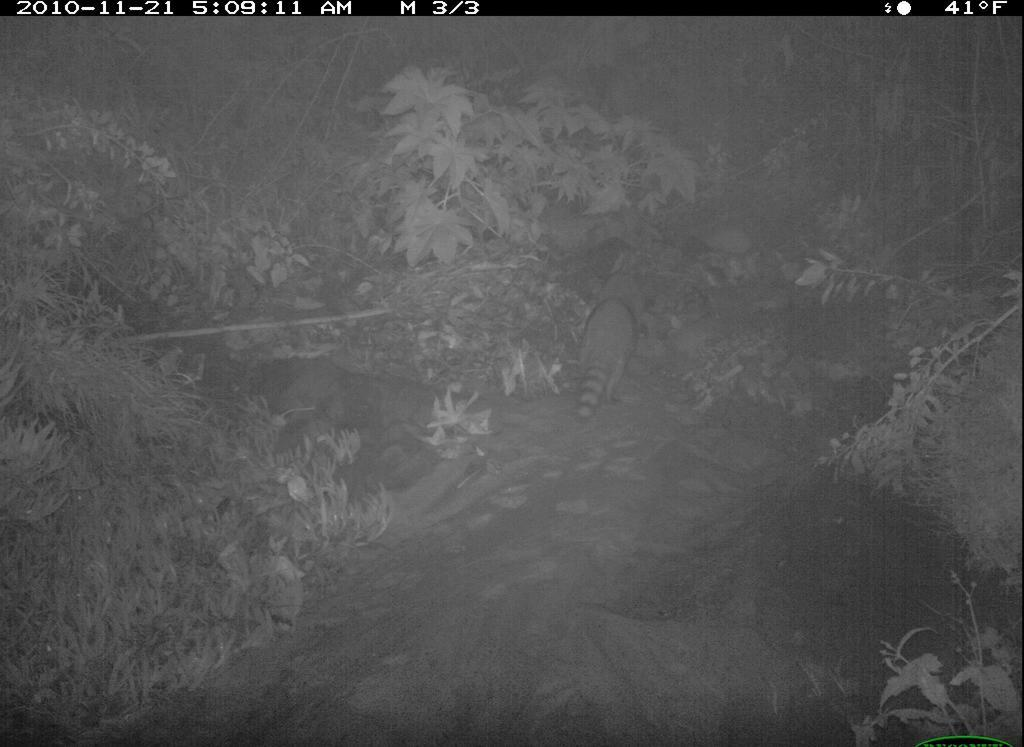raccoon: (564, 265, 662, 434)
